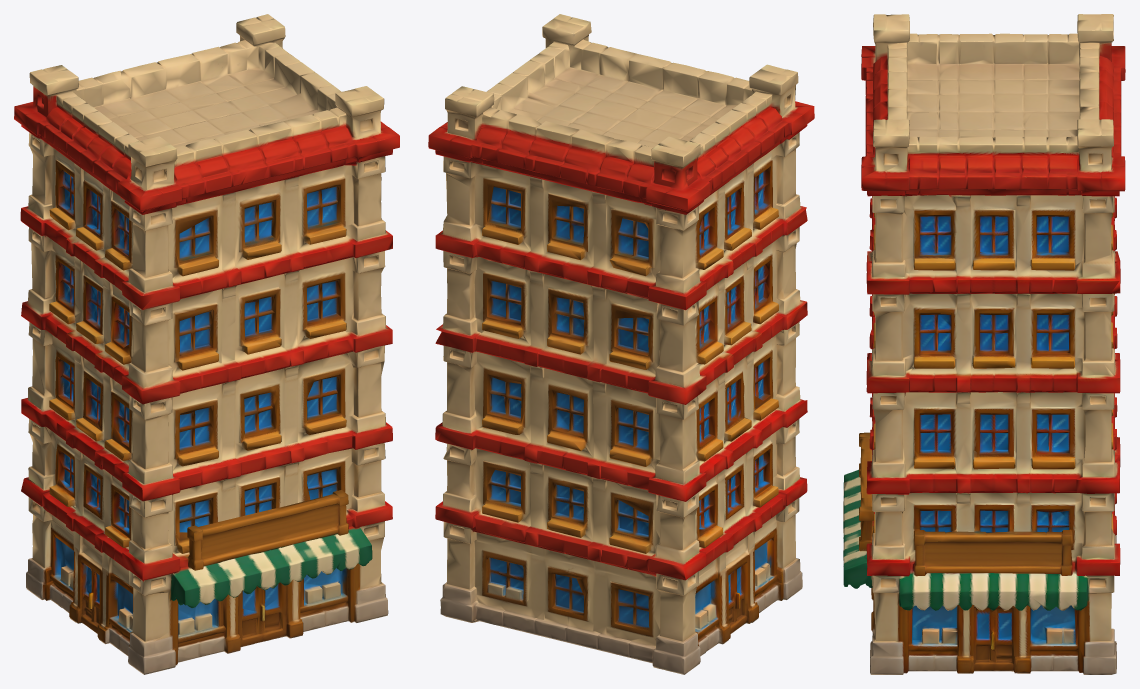
The model's file is shop-5-detail.glb.
3 views of the same model, side by side, from view 1: azimuth 30°, elevation 25°; view 2: azimuth 150°, elevation 25°; view 3: azimuth 270°, elevation 25° (orthographic). The views are drawn at different scales.
Parts seen in each view (by area): view 1: tripo_node_0e4e161a-4f3e-40a9-9f4f-664119120ae3; view 2: tripo_node_0e4e161a-4f3e-40a9-9f4f-664119120ae3; view 3: tripo_node_0e4e161a-4f3e-40a9-9f4f-664119120ae3.
Part boxes in pixels (x1,y1,x2,y2): tripo_node_0e4e161a-4f3e-40a9-9f4f-664119120ae3: [14, 14, 399, 674]; tripo_node_0e4e161a-4f3e-40a9-9f4f-664119120ae3: [428, 14, 814, 674]; tripo_node_0e4e161a-4f3e-40a9-9f4f-664119120ae3: [843, 14, 1125, 674].
Size of the model in its own units: 10.64 by 20 by 9.49.
1 material, 1 textured.
